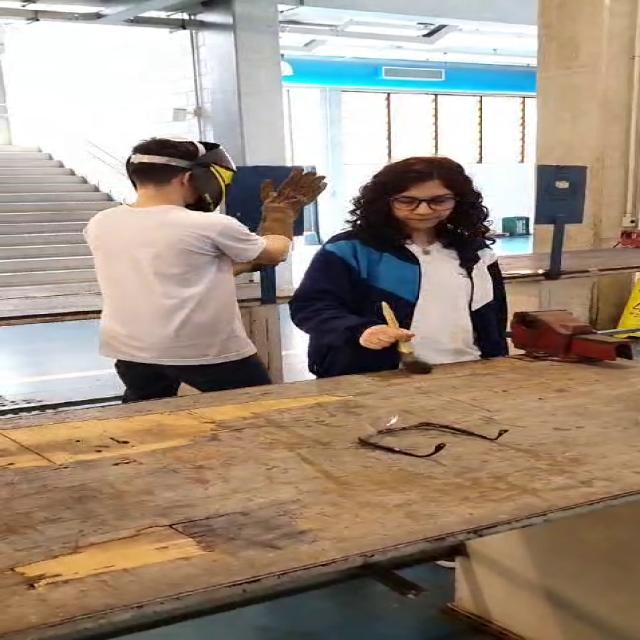sem_oculos: (383, 189, 470, 211)
